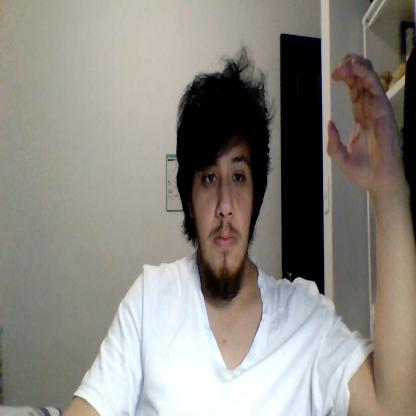C: (326, 52, 400, 190)
